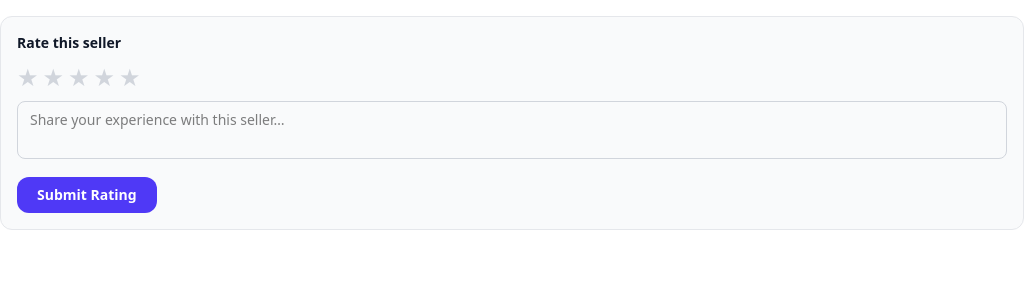
Scenario: SellerReviewPanel › requires a star rating before submitting
Click the button "Submit Rating" at point(87, 195), box [17,177,157,213]
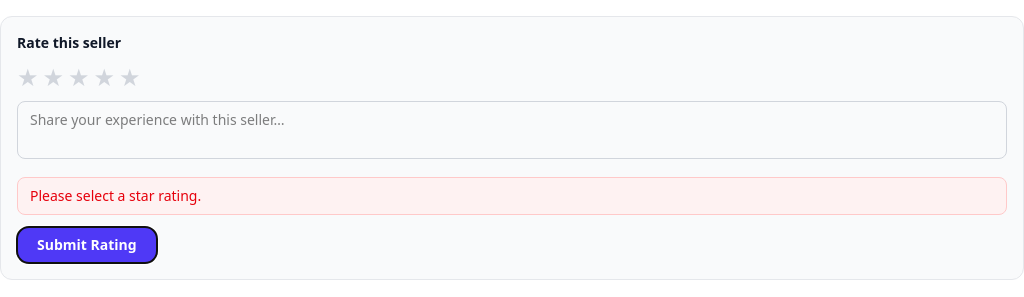
Result: the text "Please select a star rating." is shown at [17,177,1007,215]
